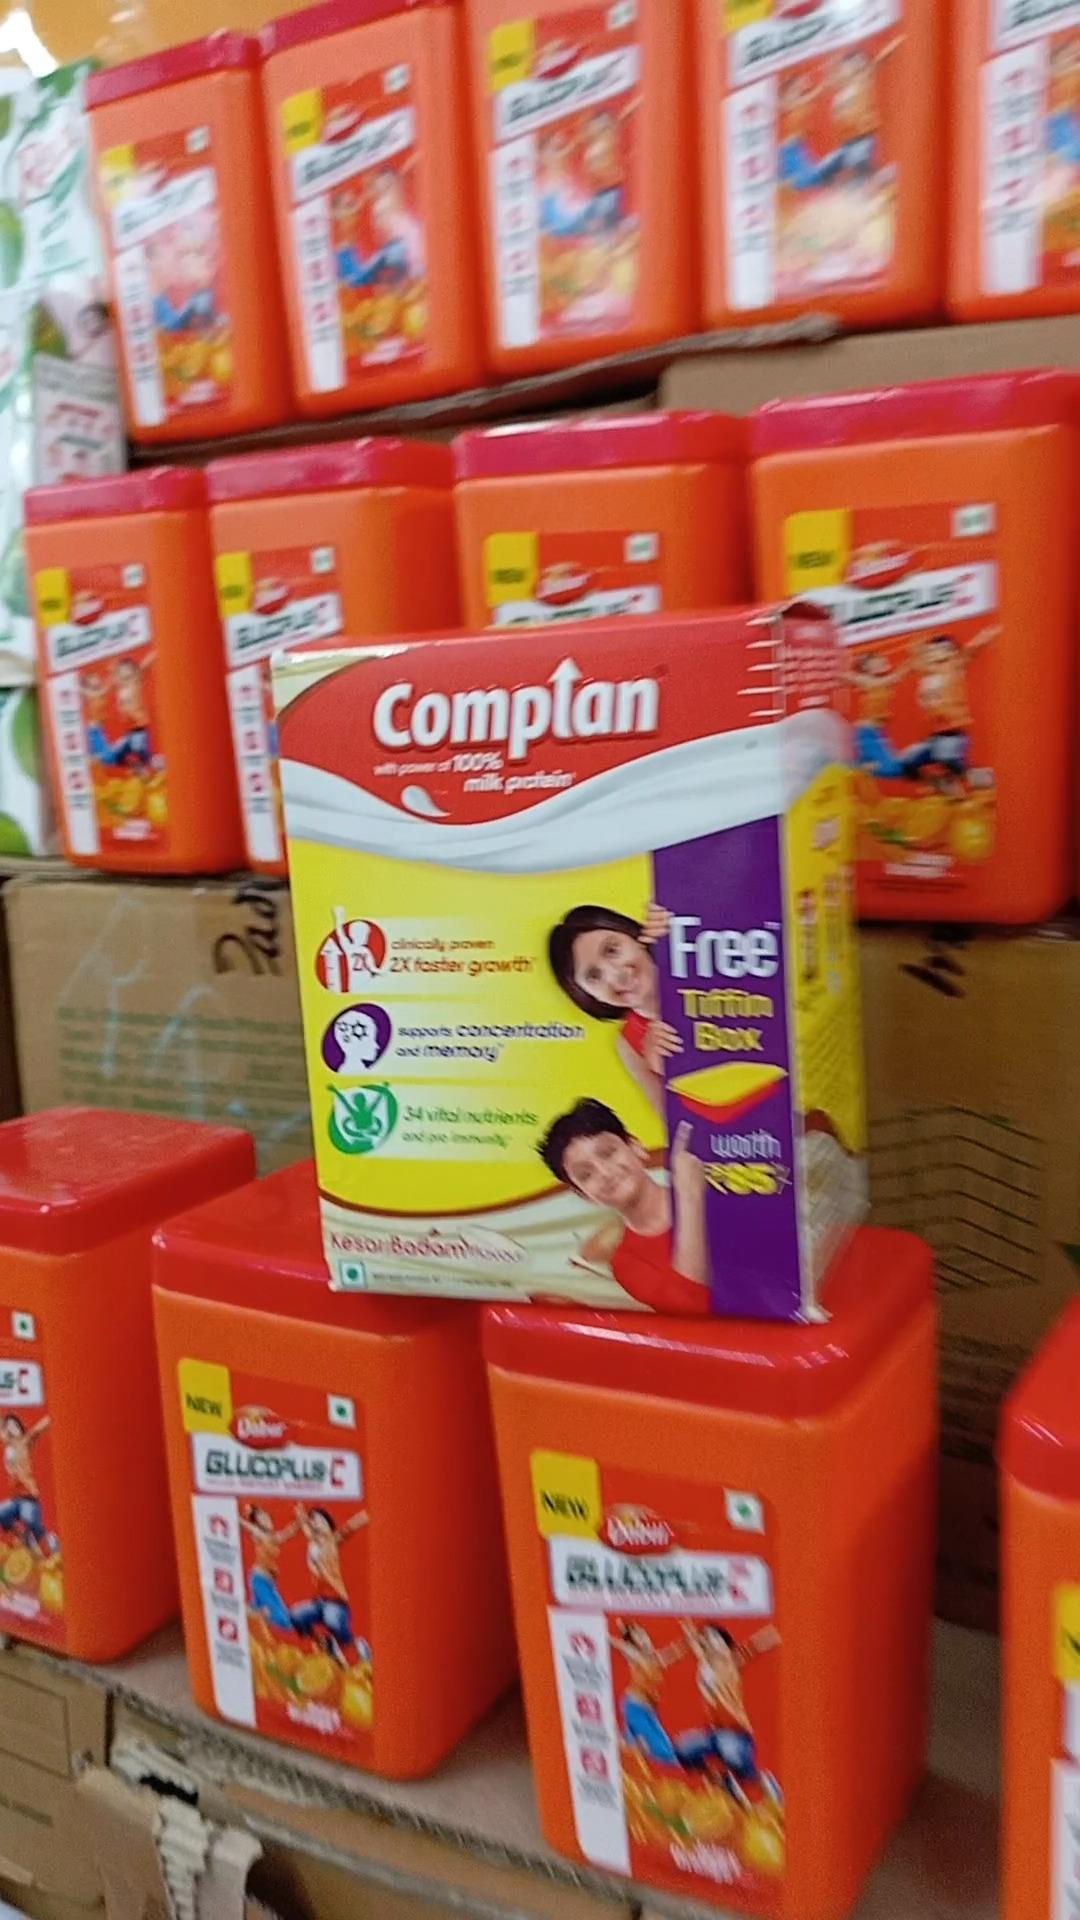COMPLAN_KESAR_BADAM_500_GMS_PACK: (291, 630, 795, 1311)
